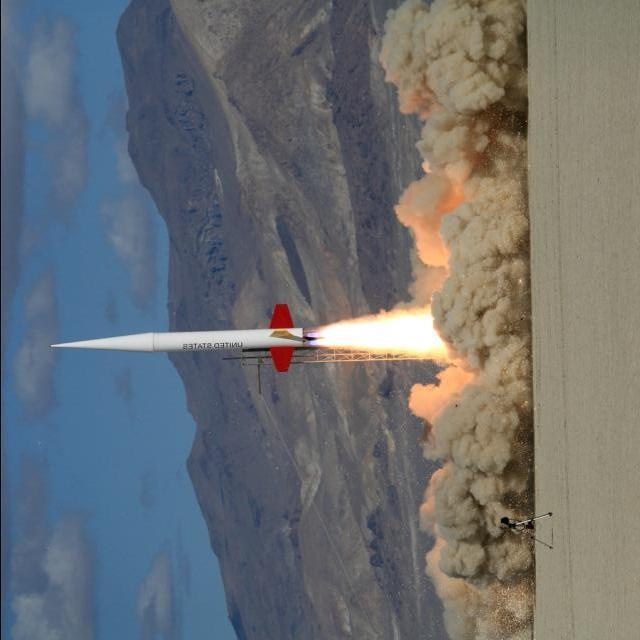missile: (47, 300, 323, 386)
